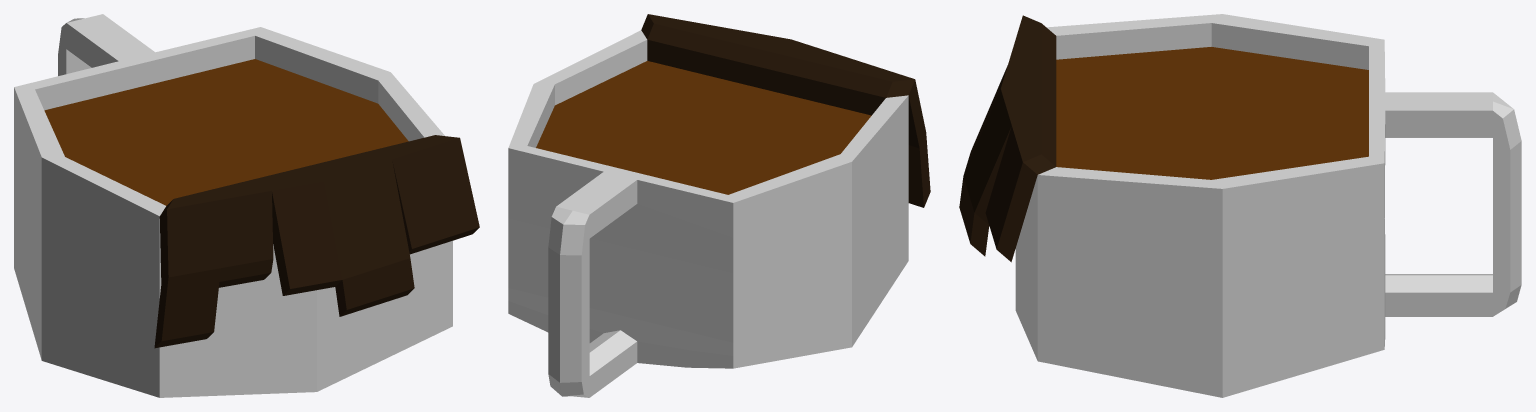
File: Props_StorageRoom_Cafe.fbx
The picture shows the model from 3 angles, left to right: view 1: azimuth 30°, elevation 25°; view 2: azimuth 150°, elevation 25°; view 3: azimuth 270°, elevation 25°; orthographic projection. The views are drawn at different scales.
Parts seen in each view (by area): view 1: Cube.001; view 2: Cube.001; view 3: Cube.001.
Part boxes in pixels (box(x1,y1,x2,y2)): Cube.001: box(14, 14, 479, 397); Cube.001: box(508, 14, 930, 397); Cube.001: box(959, 14, 1521, 397).
Bounding box in the file's own units: 238 × 141 × 324.
